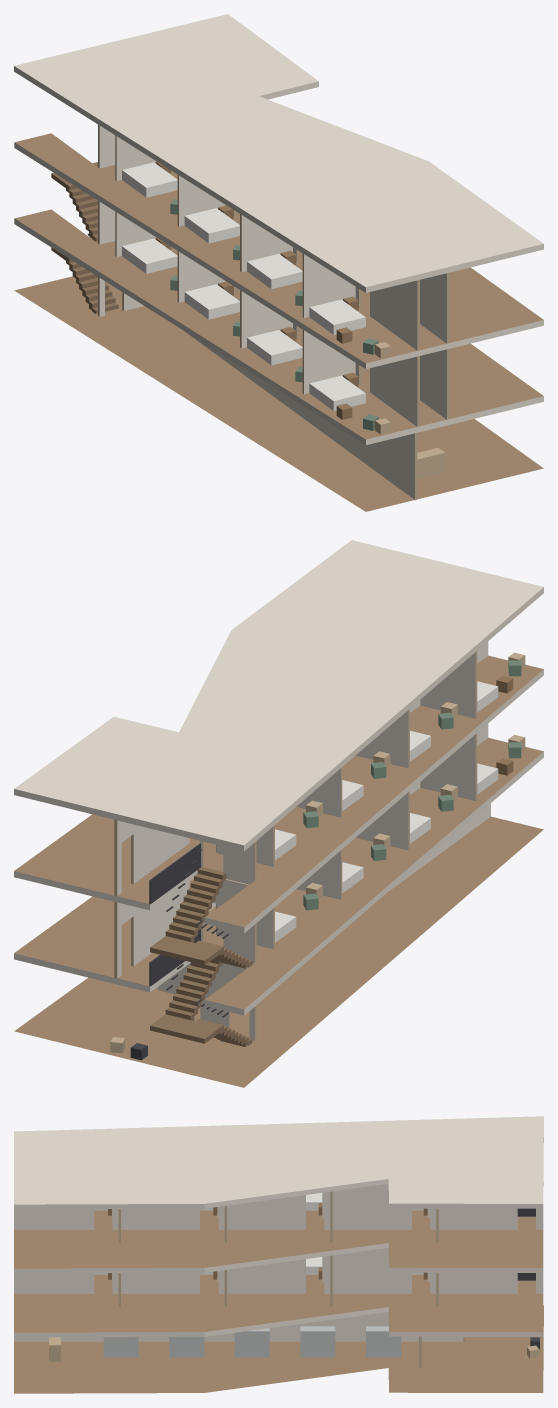
File: interior.glb
3 renders of one model, top to bottom at view 1: azimuth 30°, elevation 25°; view 2: azimuth 150°, elevation 25°; view 3: azimuth 270°, elevation 25°, orthographic. The views are drawn at different scales.
Visible parts, largest first — view 1: slabs, partitions, coarse-s1, coarse-s2, stair, coarse-s0; view 2: slabs, partitions, stair, coarse-s2, coarse-s1; view 3: slabs, partitions, coarse-s0, coarse-s2, coarse-s1.
Boxes of the visible parts, left/top/right/bottom form: slabs: left=14, top=14, right=543, bottom=511; partitions: left=98, top=124, right=449, bottom=500; coarse-s1: left=122, top=237, right=390, bottom=434; coarse-s2: left=122, top=161, right=390, bottom=358; stair: left=51, top=162, right=118, bottom=313; coarse-s0: left=417, top=447, right=445, bottom=478; slabs: left=14, top=540, right=543, bottom=1087; partitions: left=114, top=641, right=490, bottom=1040; stair: left=149, top=843, right=252, bottom=1046; coarse-s2: left=275, top=652, right=525, bottom=860; coarse-s1: left=275, top=734, right=525, bottom=942; slabs: left=14, top=1116, right=543, bottom=1393; partitions: left=14, top=1184, right=543, bottom=1367; coarse-s0: left=49, top=1326, right=539, bottom=1361; coarse-s2: left=94, top=1193, right=427, bottom=1215; coarse-s1: left=94, top=1257, right=427, bottom=1279.
Size of the model in its own units: 10.2 by 10.2 by 25.86.
